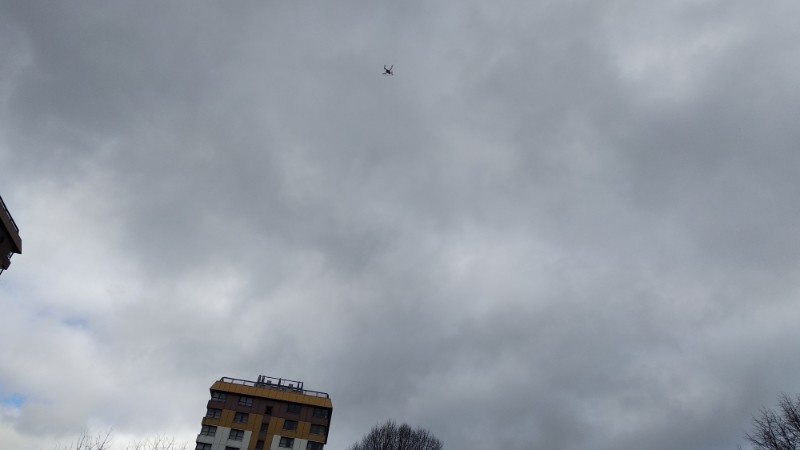drone: (382, 65, 394, 77)
